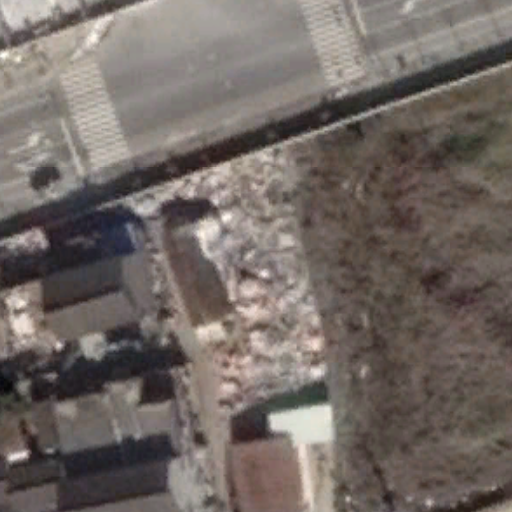msw: (177, 147, 327, 412)
